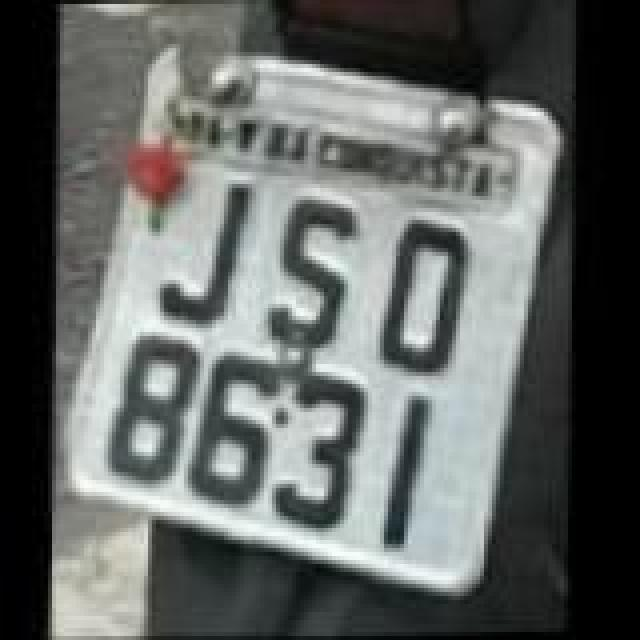1: (370, 398, 438, 554)
3: (266, 372, 374, 536)
6: (184, 352, 288, 512)
8: (100, 334, 208, 486)
J: (152, 176, 256, 320)
O: (372, 224, 476, 376)
S: (254, 200, 362, 356)
